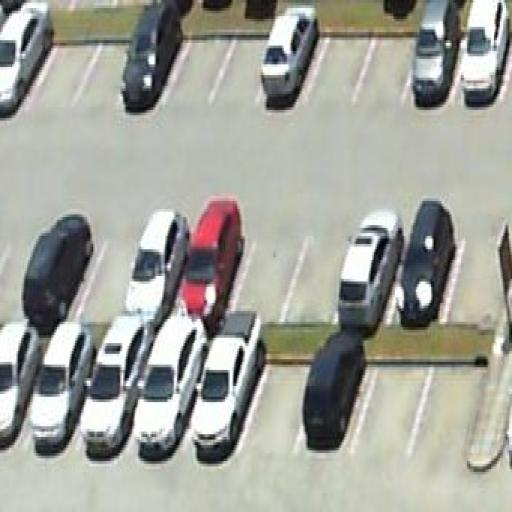car: (189, 306, 266, 458), (130, 314, 208, 458), (78, 316, 153, 458), (28, 319, 98, 453), (20, 209, 94, 335), (336, 206, 407, 335), (178, 196, 244, 332), (393, 196, 458, 332), (123, 206, 194, 327), (300, 327, 368, 453), (119, 0, 183, 118), (0, 0, 57, 118), (260, 3, 321, 107), (0, 319, 44, 453), (410, 0, 464, 107), (458, 0, 512, 107)
